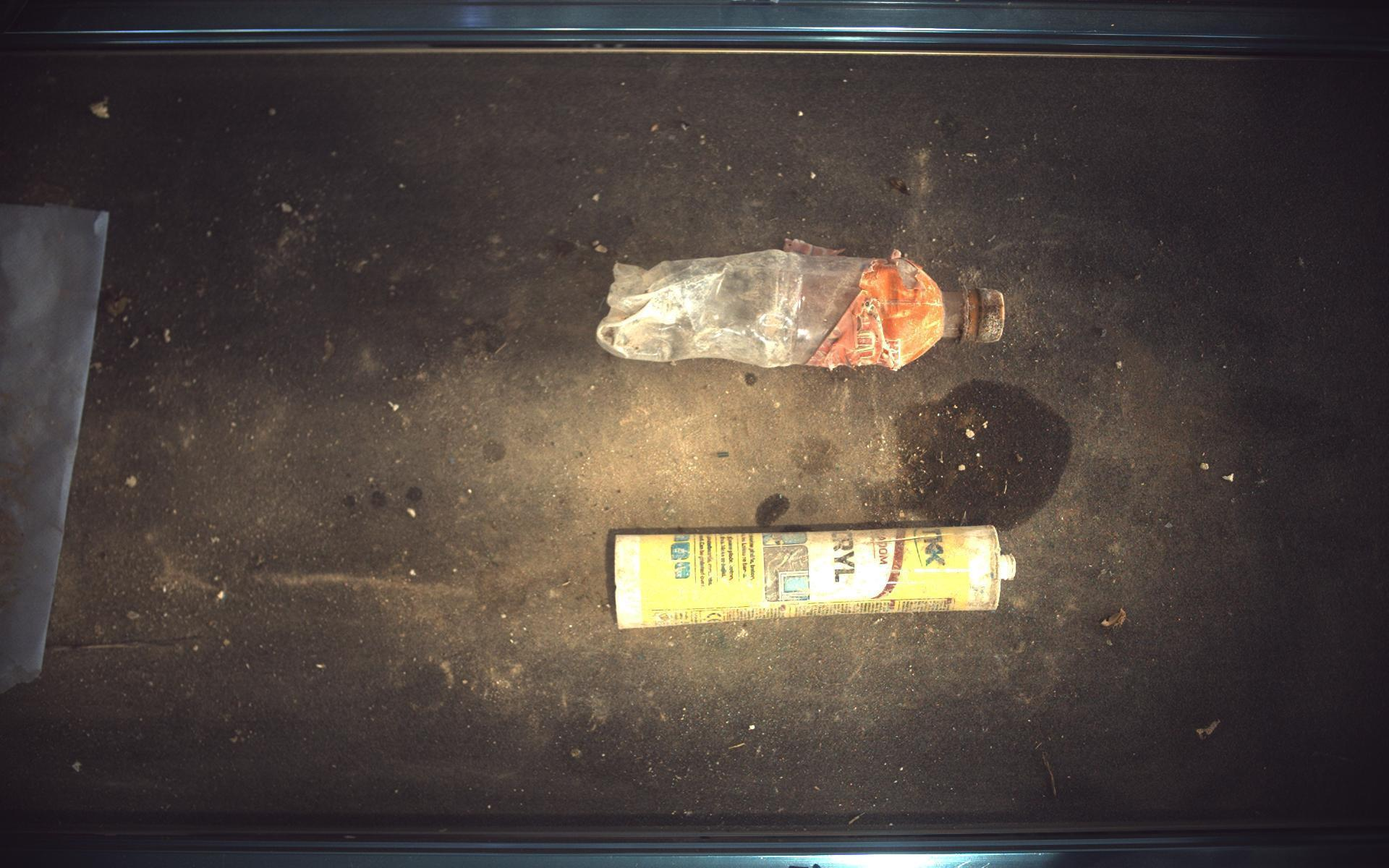general_w: (597, 240, 1007, 370)
plastic: (610, 526, 1019, 629)
